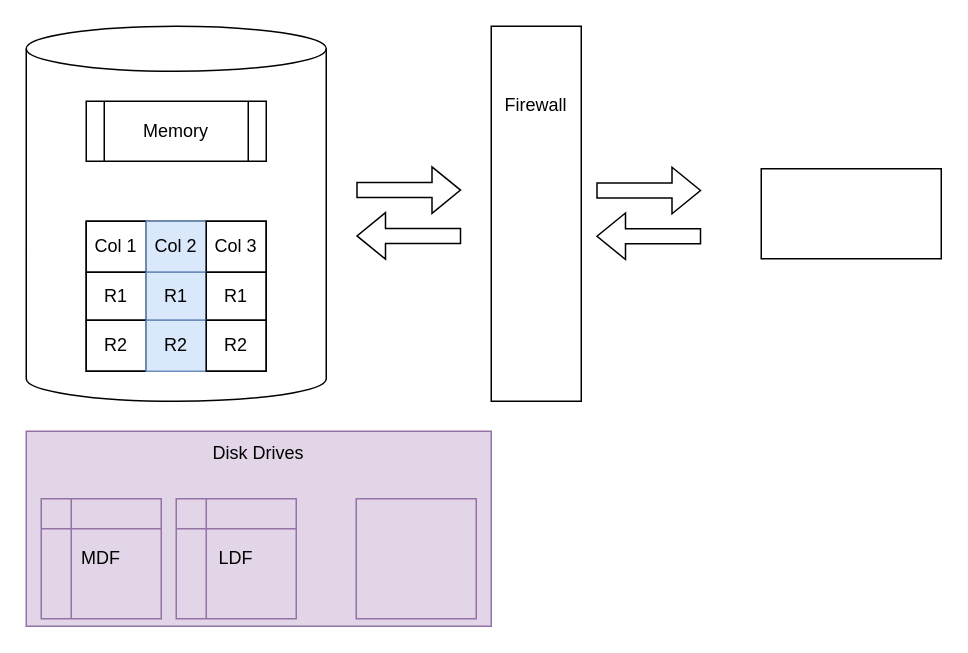
The diagram is 968 pixels wide and 653 high, and some of its shapes have lost their labels. Each missing label, with the box of its shape:
BAK: (355, 497, 476, 619)
SQL Client: (760, 167, 941, 259)
